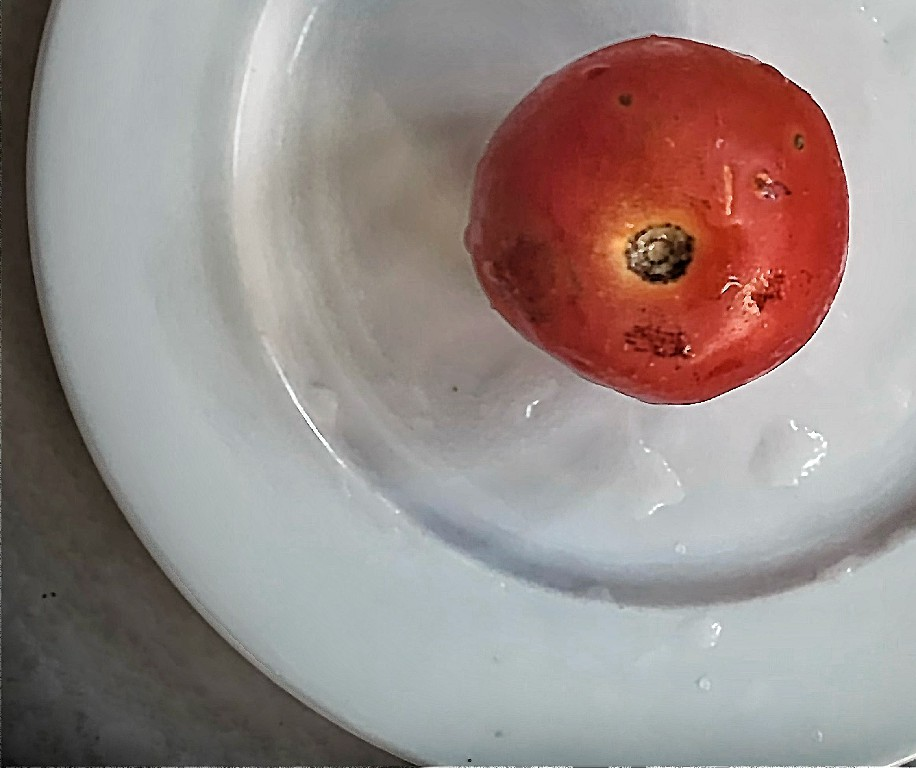NG: (467, 32, 837, 412)
